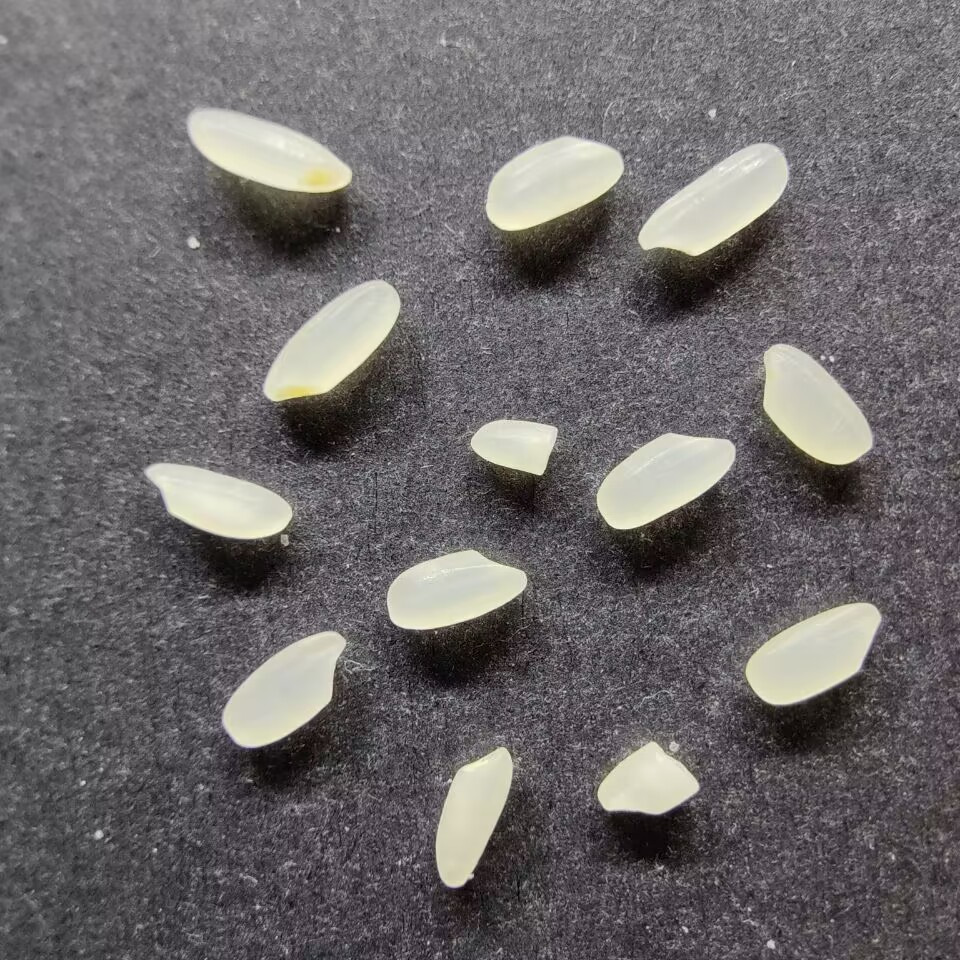broken: (597, 740, 699, 814), (469, 419, 557, 475)
rice: (636, 142, 789, 256), (262, 279, 400, 403), (221, 629, 346, 748), (745, 602, 882, 705), (186, 108, 351, 193), (595, 431, 735, 530), (484, 135, 624, 231), (762, 343, 872, 465), (144, 462, 292, 540), (386, 549, 527, 630), (434, 745, 512, 888)
